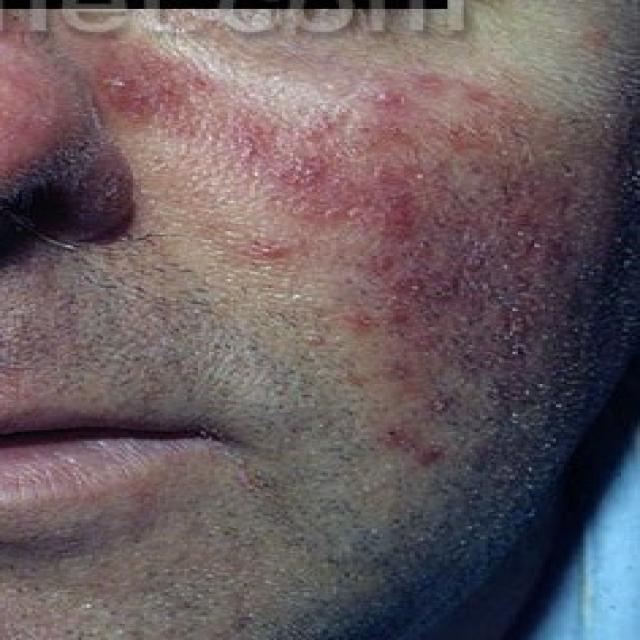Rosacea: (228, 101, 457, 307)
